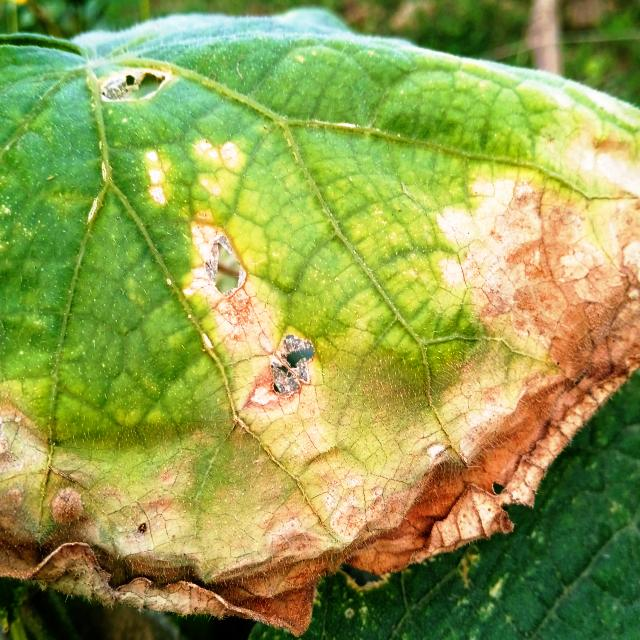Gummy-Stem-Blight: (0, 116, 640, 640)
